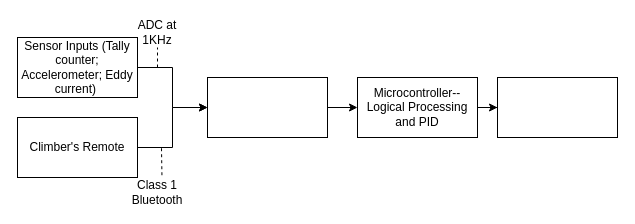
This 635x224 diagram has some shape labels left out. The shapes that lost their labels are listed below. From the top down, each one's box as (x1, y1, x2, y2) in pixels, then its label:
(206, 76, 328, 138): Microcontroller--Digital noise filtration
(496, 76, 618, 138): Output Actuation of DC Motor and Braking Systems.
